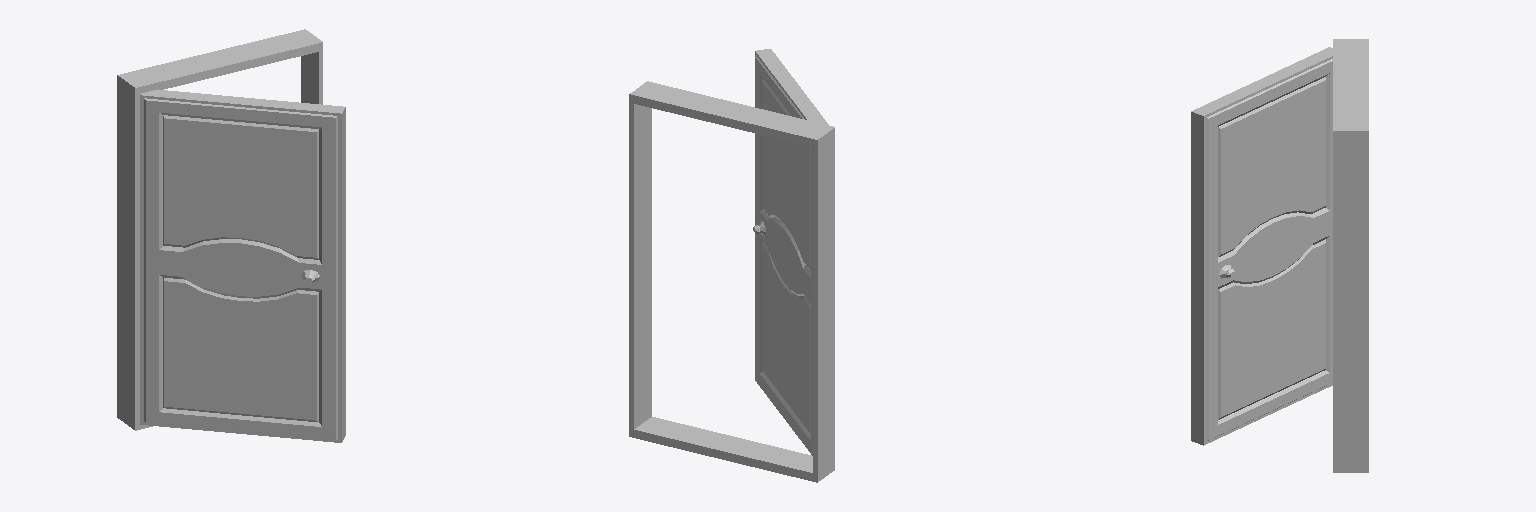
Rendered from drzwiok_000022.obj.
3 views of the same model, side by side, from view 1: azimuth 30°, elevation 25°; view 2: azimuth 150°, elevation 25°; view 3: azimuth 270°, elevation 25° (orthographic).
Parts seen in each view (by area): view 1: Door_4.001_Cube.001, Kostka; view 2: Kostka, Door_4.001_Cube.001; view 3: Door_4.001_Cube.001, Kostka.
Boxes of the visible parts, x1,y1,x2,y2 form: Door_4.001_Cube.001: [140, 90, 345, 442]; Kostka: [117, 29, 322, 430]; Kostka: [629, 81, 834, 482]; Door_4.001_Cube.001: [753, 49, 828, 455]; Door_4.001_Cube.001: [1191, 47, 1332, 445]; Kostka: [1333, 39, 1368, 472].
Size of the model in its own units: 0.7416 by 1.29 by 0.6074.